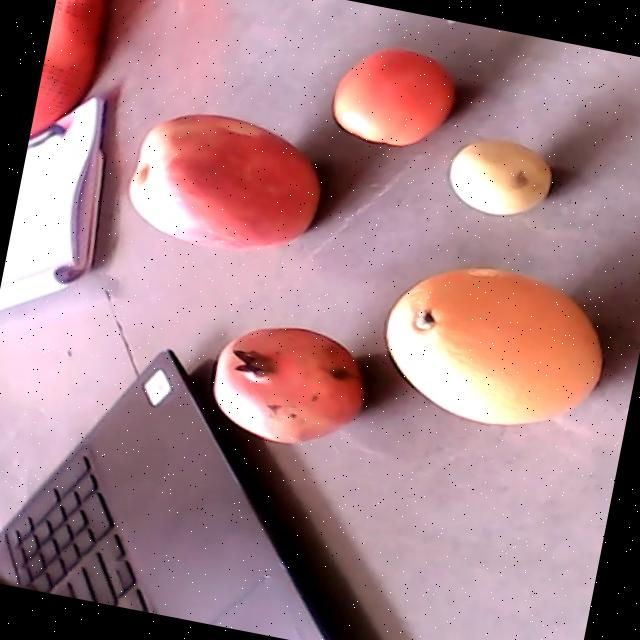apple: (128, 113, 322, 248)
lemon: (449, 138, 552, 214)
orange: (388, 267, 602, 423)
pomegranate: (214, 327, 364, 444)
tomato: (333, 49, 456, 145)
